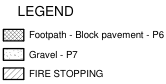hatch: (1, 27, 26, 43), (1, 46, 26, 62), (1, 66, 26, 81)
label: (28, 29, 165, 41), (27, 66, 106, 79), (28, 48, 79, 60)
